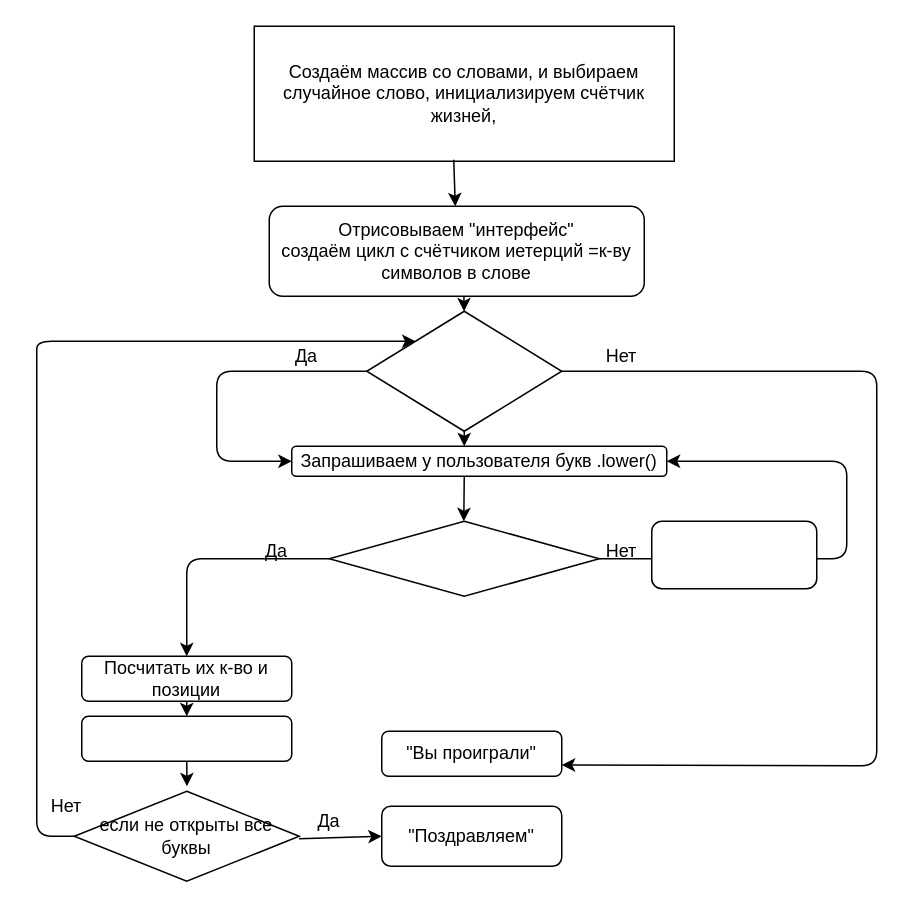
Image size: 915x908. Some labels were removed from this diagram. Here are the shapes that lost their labels. From the top down, the centre of each, then its label:
At (x=463, y=370): "число попыток?".
At (x=463, y=558): "Есть ли буква в слове?".
At (x=733, y=554): "обновляем счётчик жизней".
At (x=186, y=738): "Открыть их на табло".
